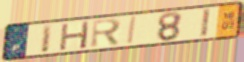8: (156, 10, 184, 43)
H: (58, 19, 92, 52)
I: (39, 23, 54, 54), (199, 7, 213, 39), (126, 15, 139, 46)
R: (90, 17, 124, 49)
